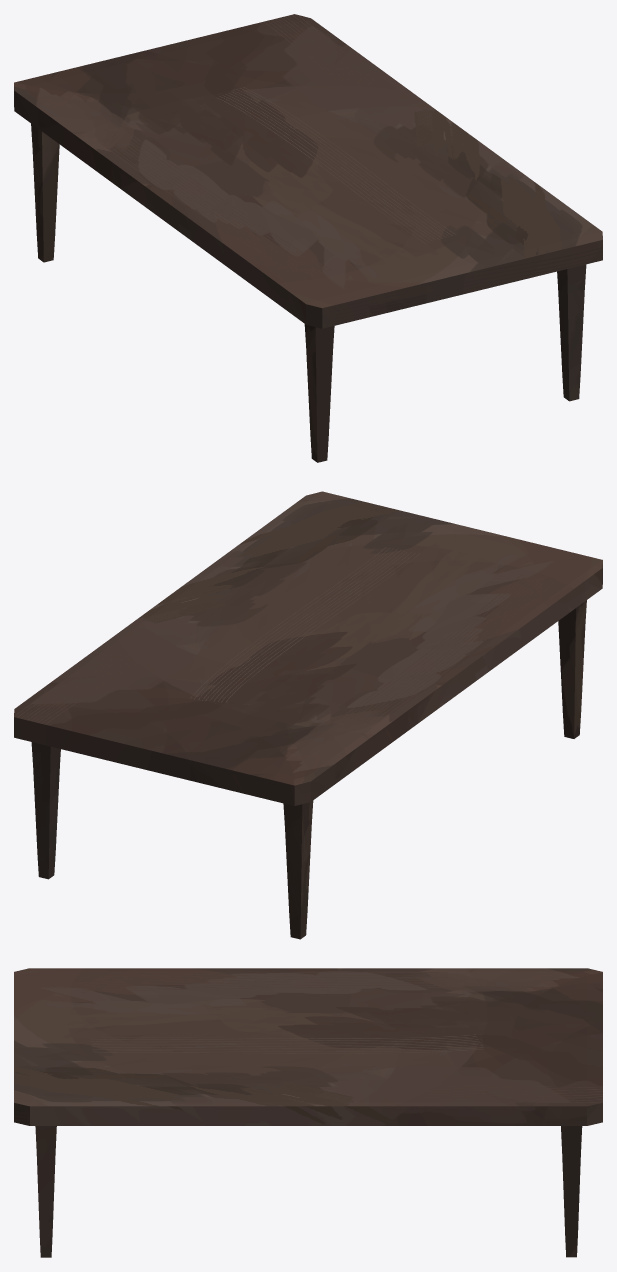
The model's file is M-Table.fbx.
The picture shows the model from 3 angles, top to bottom: view 1: azimuth 30°, elevation 25°; view 2: azimuth 150°, elevation 25°; view 3: azimuth 270°, elevation 25°; orthographic projection. The views are drawn at different scales.
Visible parts, largest first — view 1: Cube.004; view 2: Cube.004; view 3: Cube.004.
Boxes of the visible parts, x1,y1,x2,y2 form: Cube.004: (14,14,602,462); Cube.004: (14,491,602,939); Cube.004: (14,968,602,1257).
Bounding box in the file's own units: 100 × 180 × 54.02.
Materials: 2 (2 with a texture image).
